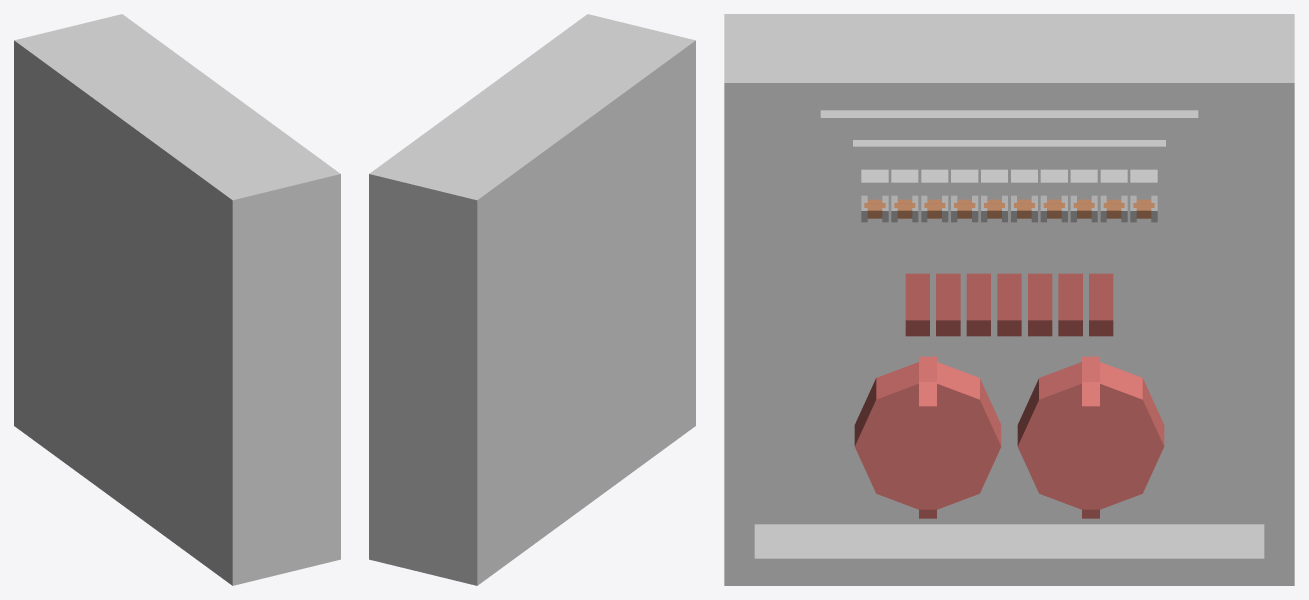
File: ControlPanel.fbx
The picture shows the model from 3 angles, left to right: view 1: azimuth 30°, elevation 25°; view 2: azimuth 150°, elevation 25°; view 3: azimuth 270°, elevation 25°; orthographic projection. The views are drawn at different scales.
Parts seen in each view (by area): view 1: Cube; view 2: Cube; view 3: Cube, Cube.001, Cube.003, Plane.
Boxes of the visible parts, x1,y1,x2,y2 form: Cube: [14, 14, 340, 585]; Cube: [369, 14, 695, 585]; Cube: [724, 14, 1294, 585]; Cube.001: [854, 356, 1164, 518]; Cube.003: [861, 169, 1157, 235]; Plane: [905, 273, 1113, 336].
Bounding box in the file's own units: 21.49 × 68.15 × 70.
